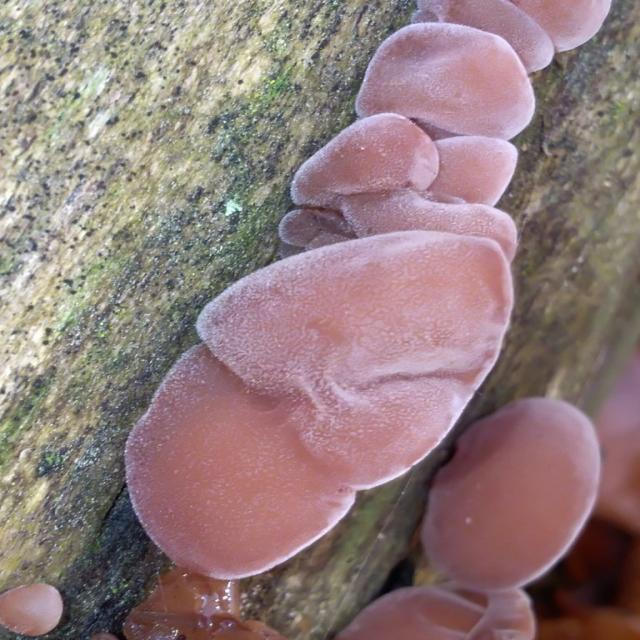Fase Muda: (111, 226, 526, 587), (273, 0, 625, 226), (427, 394, 602, 588)
